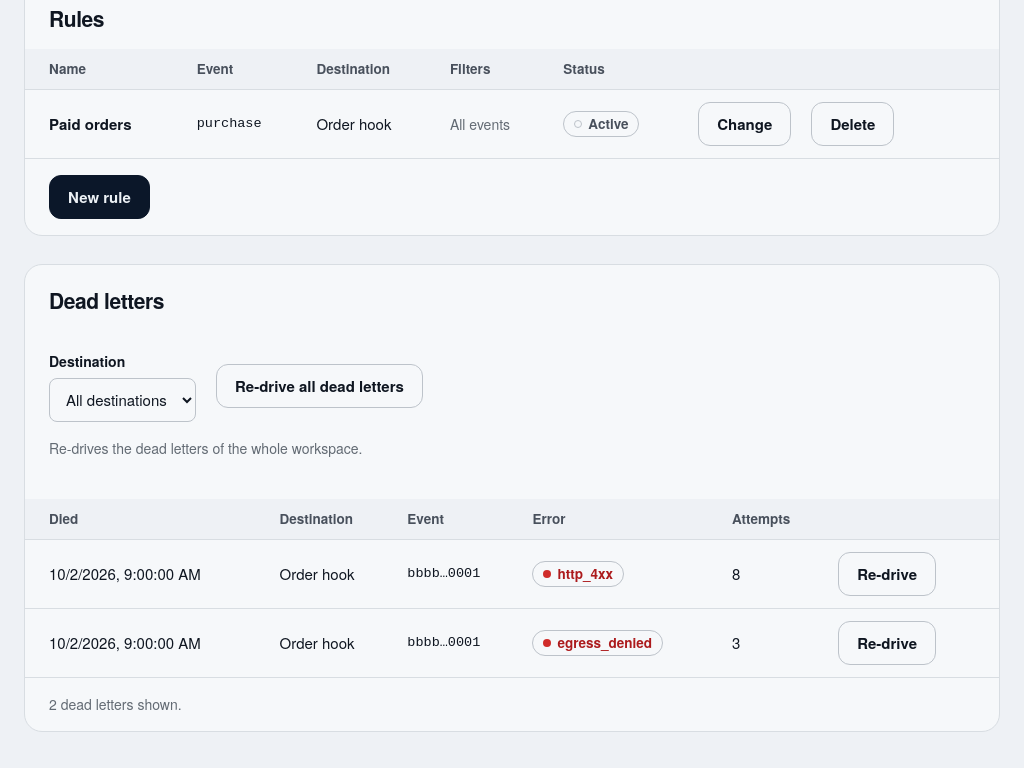
Test case: dead letters › does nothing when the confirmation is cancelled
The image size is (1024, 768).
(page scrolled)
Click the button "Re-drive all dead letters".
click(319, 386)  # box top-left (216, 364), bottom-right (423, 408)
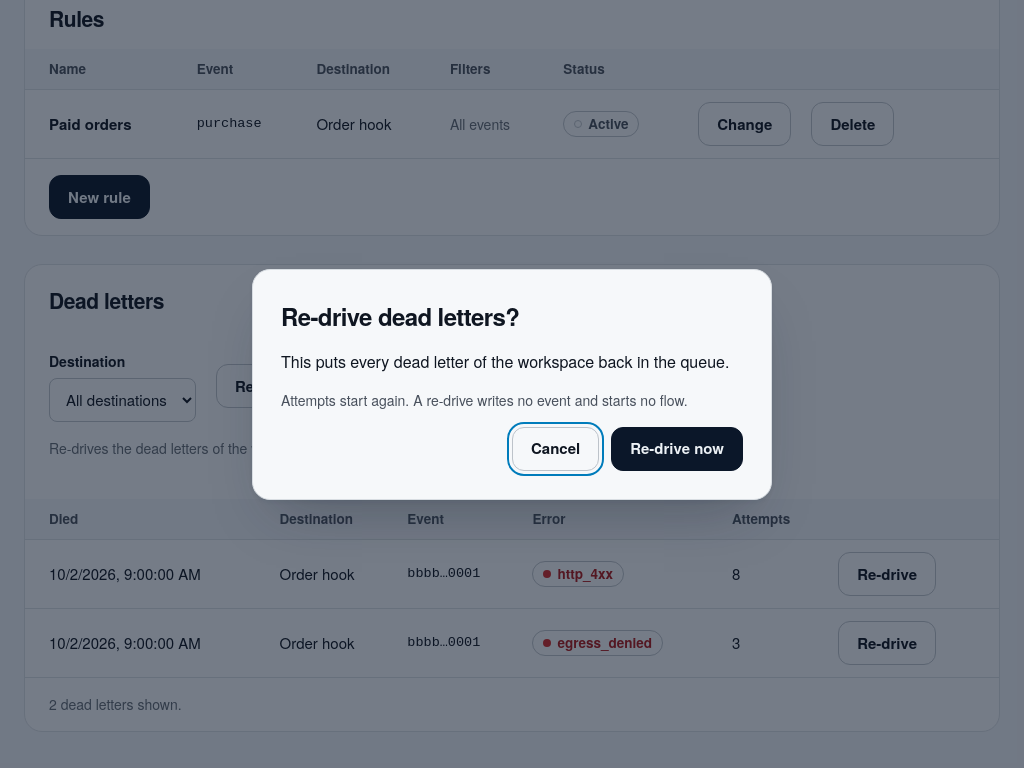
Result: the text "every dead letter of the workspace" is shown at top-left (281, 350), bottom-right (729, 372)
Click the button "Cancel".
click(556, 448)  # box top-left (512, 426), bottom-right (599, 470)
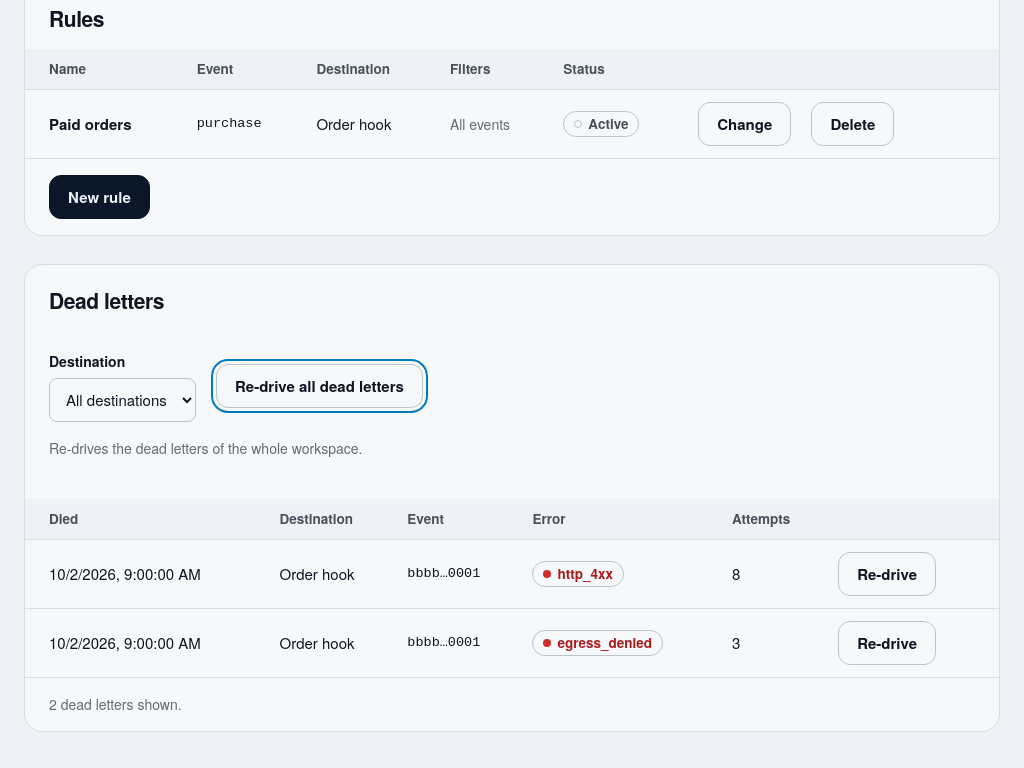
Result: the dialog is gone
